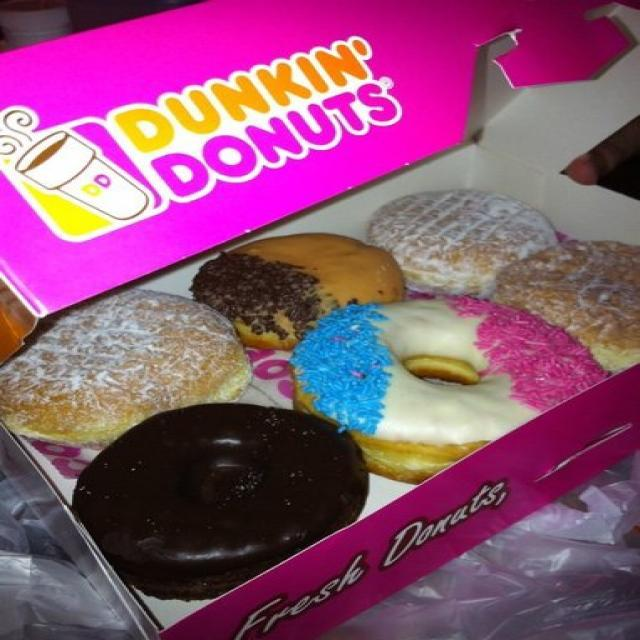Donuts: (15, 190, 640, 586)
